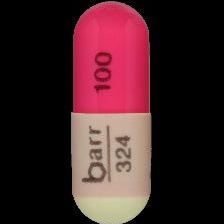53808-0431: (0, 0, 224, 224)
